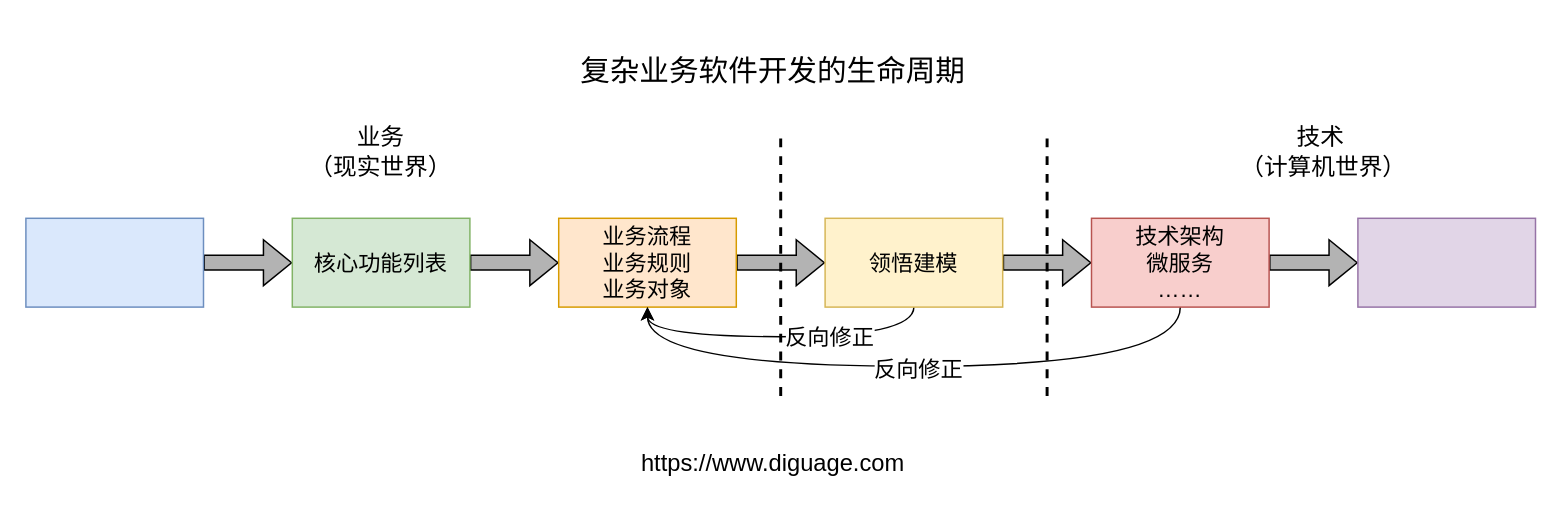
This 1561x509 diagram has some shape labels left out. Each missing label, with the centre of its shape:
"业务目标 业务价值 利益相关者" goes at (x=114, y=262).
"系统流程 系统接口 ……" goes at (x=1446, y=262).
